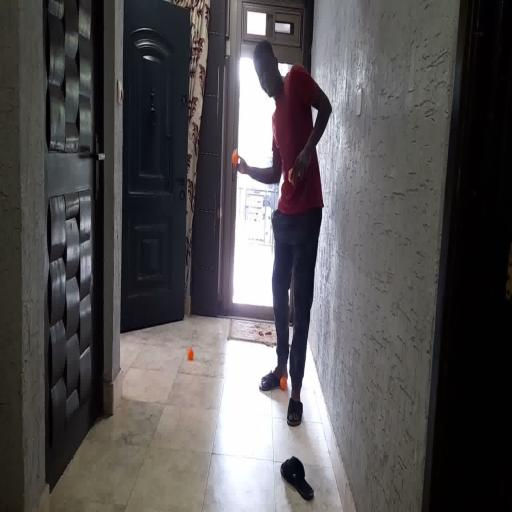plastic-ball: (231, 144, 240, 170)
